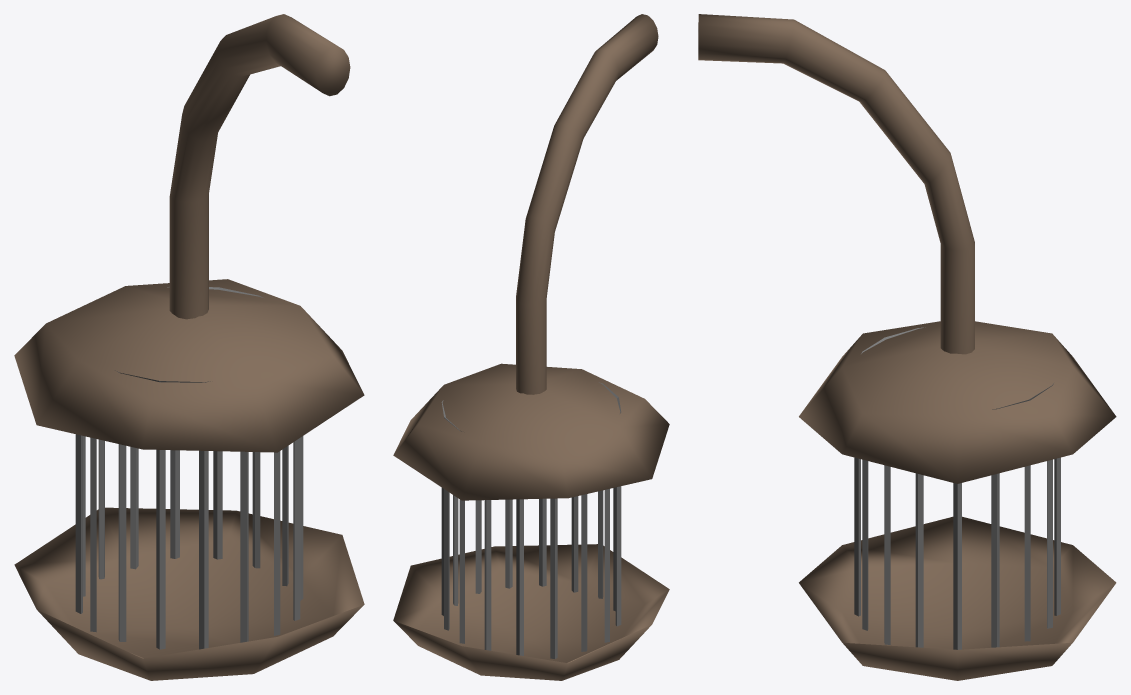
The model's file is candelabros laterales.fbx.
3 renders of one model, left to right at view 1: azimuth 30°, elevation 25°; view 2: azimuth 150°, elevation 25°; view 3: azimuth 270°, elevation 25°, orthographic. The views are drawn at different scales.
Parts seen in each view (by area): view 1: Cylinder.004; view 2: Cylinder.004; view 3: Cylinder.004.
Part boxes in pixels (<box>): Cylinder.004: <box>14,14,364,680</box>; Cylinder.004: <box>393,14,669,680</box>; Cylinder.004: <box>698,14,1116,680</box>.
Size of the model in its own units: 0.3557 by 0.7916 by 0.4679.
